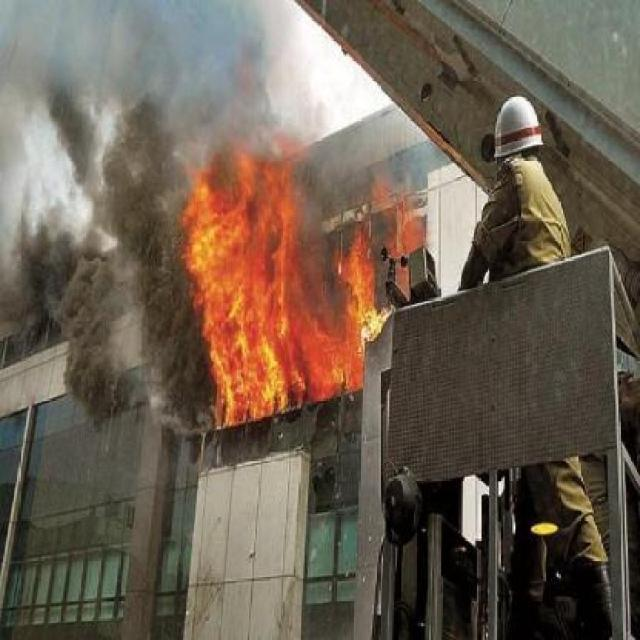Fire: (163, 120, 428, 429)
Smoke: (0, 3, 218, 457), (185, 0, 402, 314)
